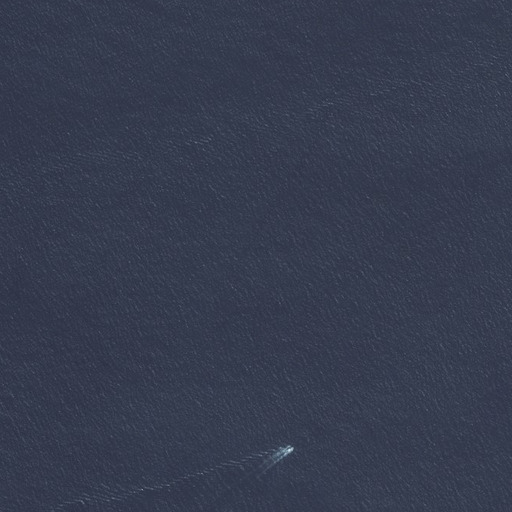ship: (284, 445, 294, 454)
